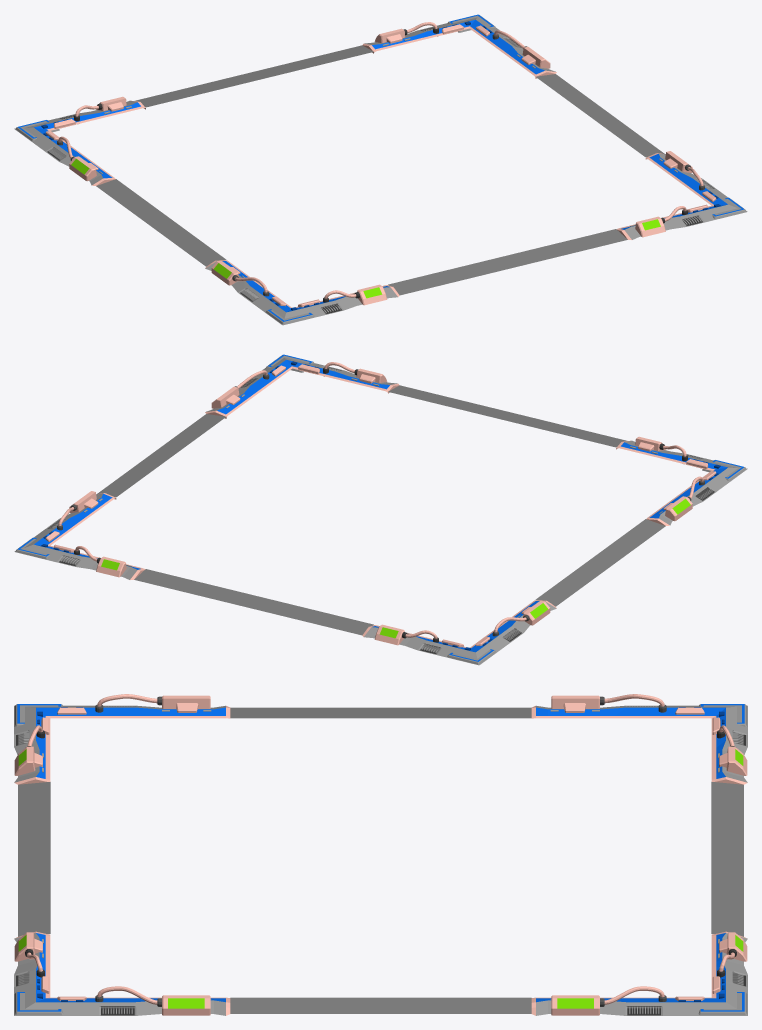
Rendered from 140_NFT_Display_-_8x8.fbx.
The picture shows the model from 3 angles, top to bottom: view 1: azimuth 30°, elevation 25°; view 2: azimuth 150°, elevation 25°; view 3: azimuth 270°, elevation 25°; orthographic projection. The views are drawn at different scales.
Visible parts, largest first — view 1: NFT_basic_8x8; view 2: NFT_basic_8x8; view 3: NFT_basic_8x8.
Boxes of the visible parts, x1,y1,x2,y2 form: NFT_basic_8x8: (14,14,747,325); NFT_basic_8x8: (14,354,747,665); NFT_basic_8x8: (14,694,747,1015).
Size of the model in its own units: 8 by 0.2425 by 8.
